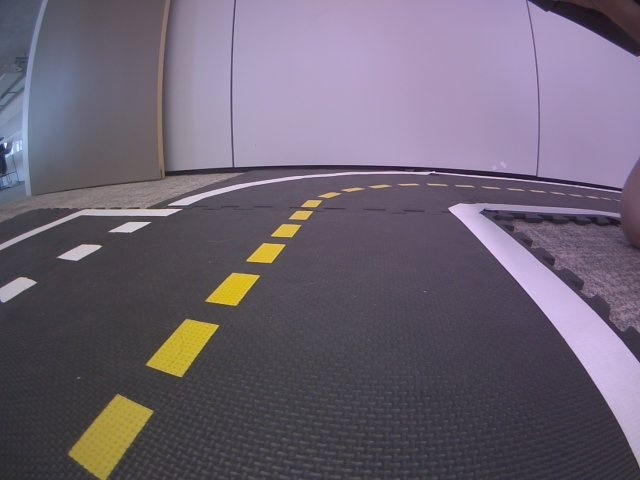freeSlot: (0, 207, 182, 306)
